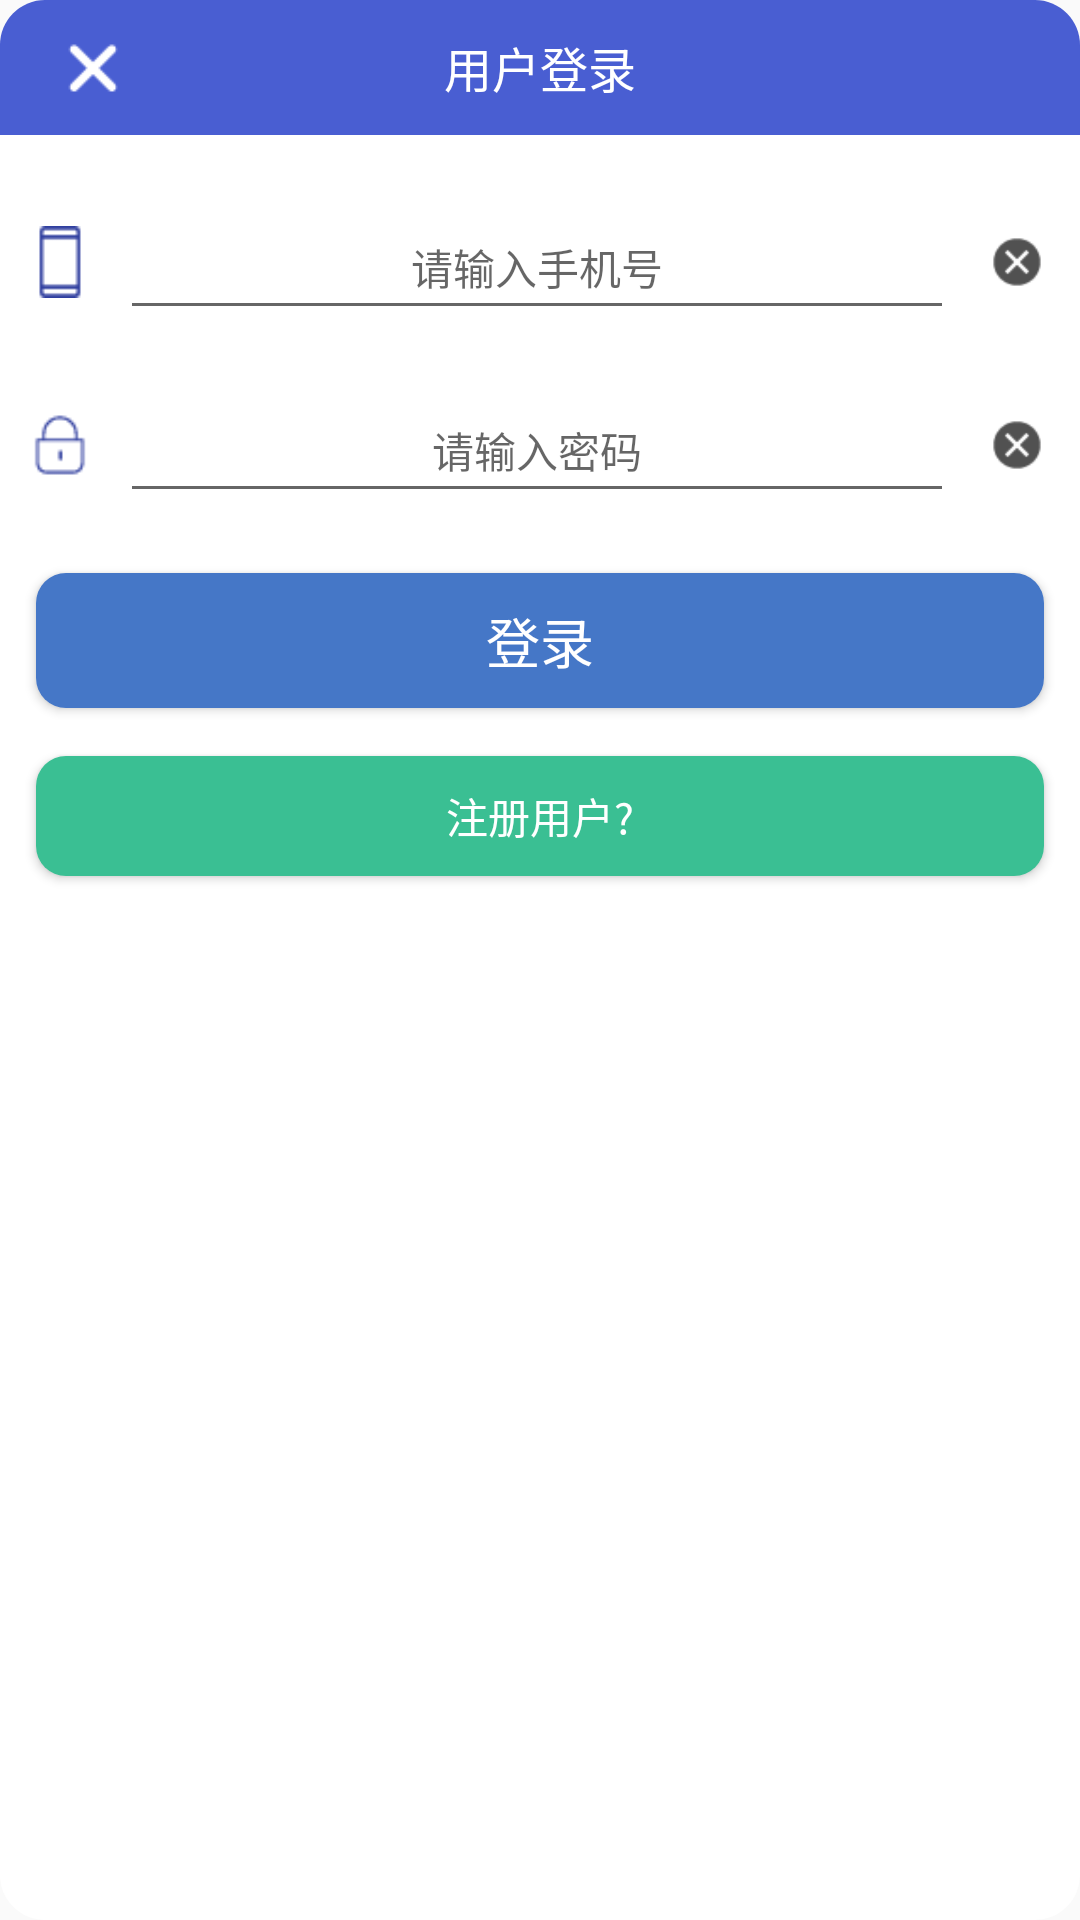

Named icons in this screenshot (1080×1920) and their bounding boxes, (x1, y1, x2, y2):
cancel: (69, 44, 117, 92)
login clear: (993, 238, 1041, 286), (993, 421, 1041, 469)
login pass: (35, 415, 85, 475)
